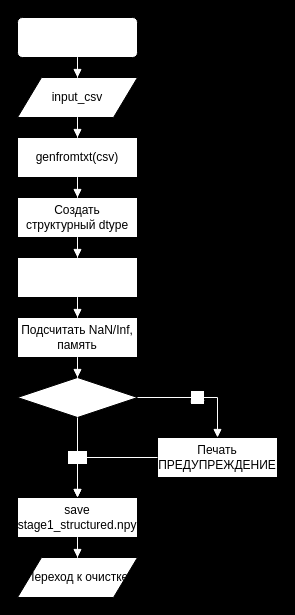
Some shapes in this 295 by 615 pixel diagram are drawn without their labels. Here are the shapes that lost their labels. From the top down, the centre of each, then its label:
point (77, 37): main: загрузка НАЧАЛО
point (77, 277): Перекастовать поля
point (77, 397): Доля NaN/Inf > 3%?
